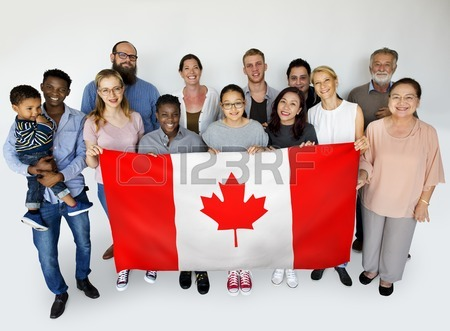person: (366, 77, 432, 174), (83, 60, 142, 144), (207, 88, 273, 157), (22, 60, 82, 129), (139, 92, 206, 153)
